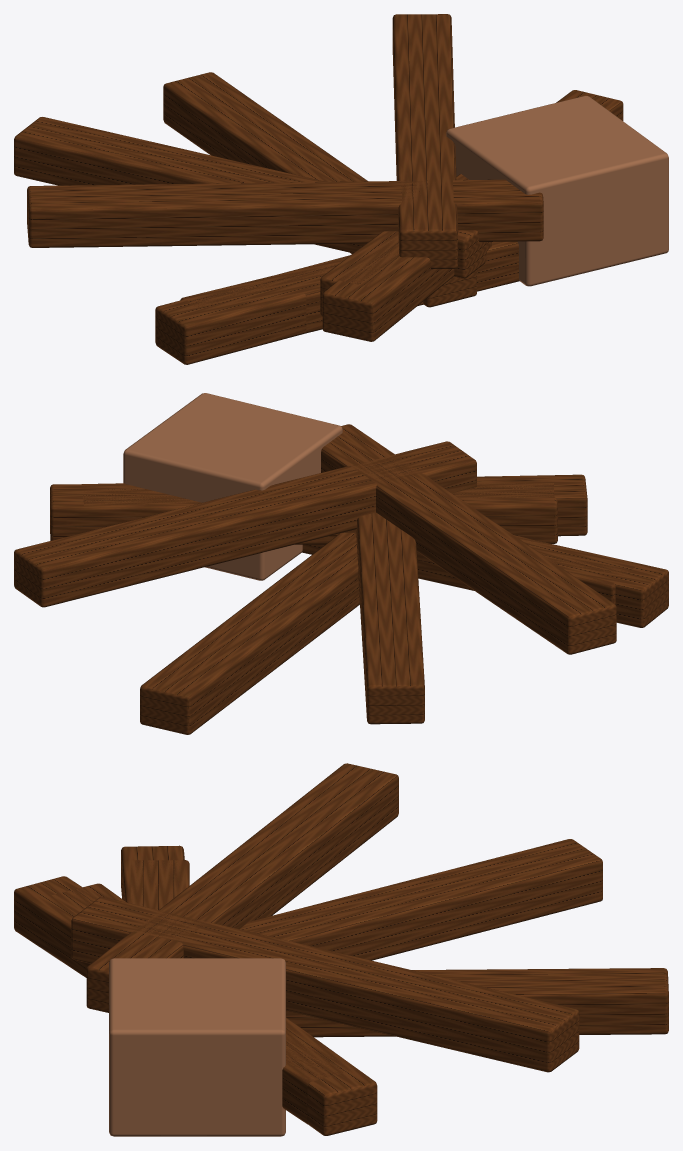
Rendered from undercity-sewers-and-thieves-den-debris-dam-3cb4bb4a__25053.glb.
The picture shows the model from 3 angles, top to bottom: view 1: azimuth 30°, elevation 25°; view 2: azimuth 150°, elevation 25°; view 3: azimuth 270°, elevation 25°; orthographic projection. The views are drawn at different scales.
Parts seen in each view (by area): view 1: debris-dam; view 2: debris-dam; view 3: debris-dam.
Part boxes in pixels (left/top/right/bottom): debris-dam: left=14, top=14, right=668, bottom=364; debris-dam: left=14, top=393, right=668, bottom=734; debris-dam: left=14, top=763, right=668, bottom=1136.
Size of the model in its own units: 1.83 by 0.3 by 1.66.
2 materials, 1 textured.
